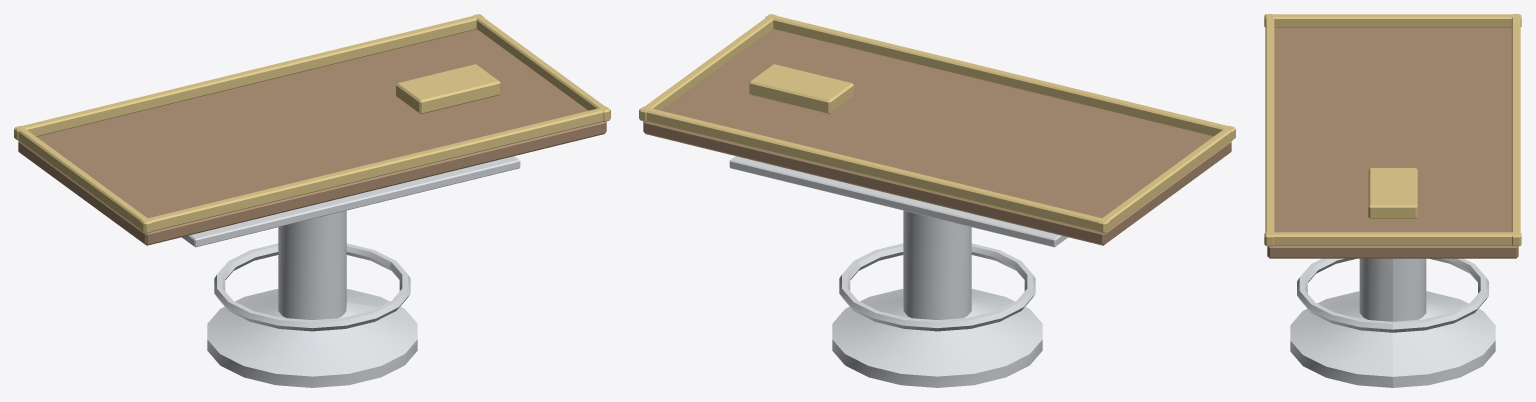
The model's file is submarine-interior-and-control-room-wardroom-table-cc218de3__36502.glb.
3 views of the same model, side by side, from view 1: azimuth 30°, elevation 25°; view 2: azimuth 150°, elevation 25°; view 3: azimuth 270°, elevation 25° (orthographic). The views are drawn at different scales.
Visible parts, largest first — view 1: wardroom-table; view 2: wardroom-table; view 3: wardroom-table.
Part boxes in pixels (bbox=[...]): wardroom-table: bbox=[14, 14, 610, 387]; wardroom-table: bbox=[639, 14, 1235, 387]; wardroom-table: bbox=[1264, 14, 1521, 387].
Size of the model in its own units: 1.72 by 0.8 by 0.8399.
